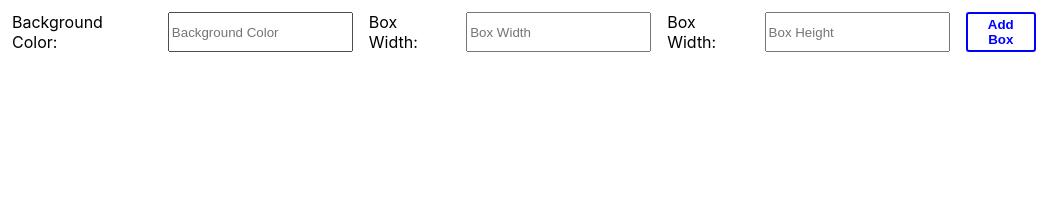
should add a colored square
The image size is (1048, 201).
Type "green" into the field with placeholder "Background Color" at (260, 32), box [168,12,353,52]
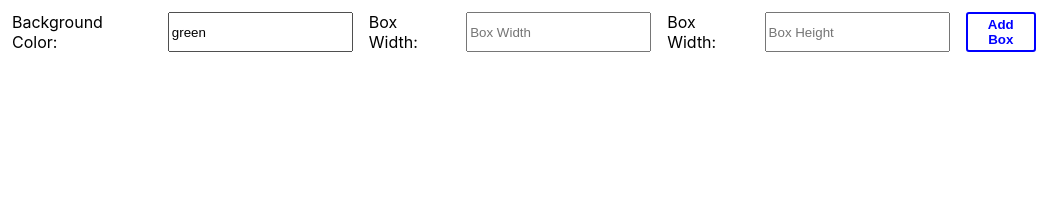
Type "100" into the 1st field with placeholder "Box Width" at (559, 32), box [466,12,651,52]
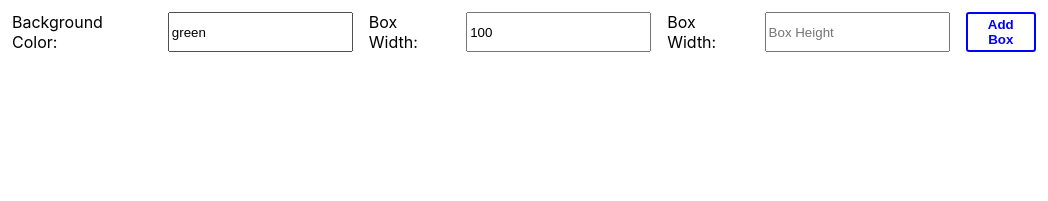
Type "100" into the 2nd field with placeholder "Box Height" at (857, 32), box [765,12,950,52]
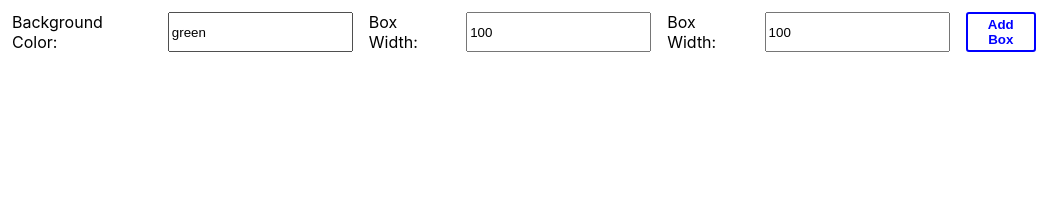
Click the button "Add Box" at (1001, 32), box [966,12,1036,52]
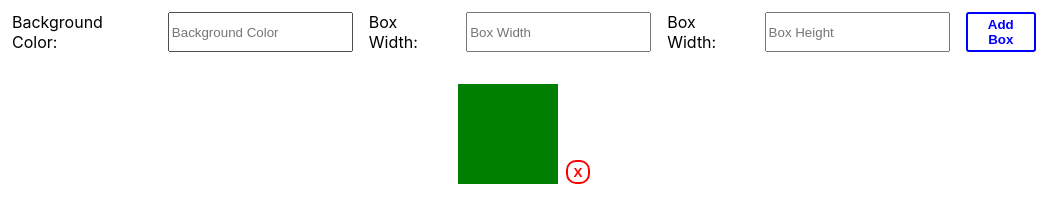
Expected: the button "X" is shown, [566,160,590,184]
